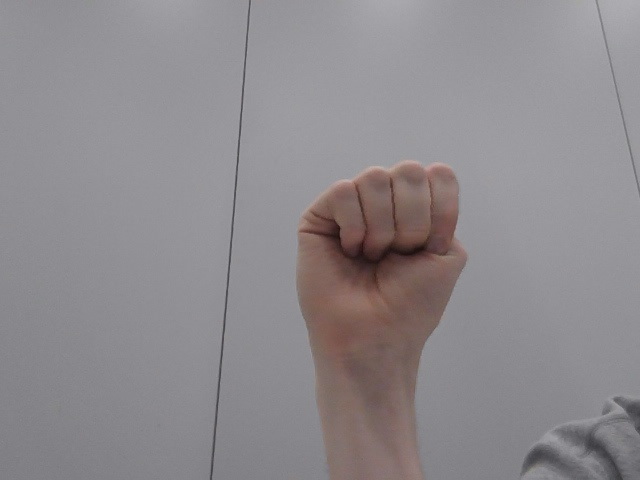down: (268, 149, 494, 397)
